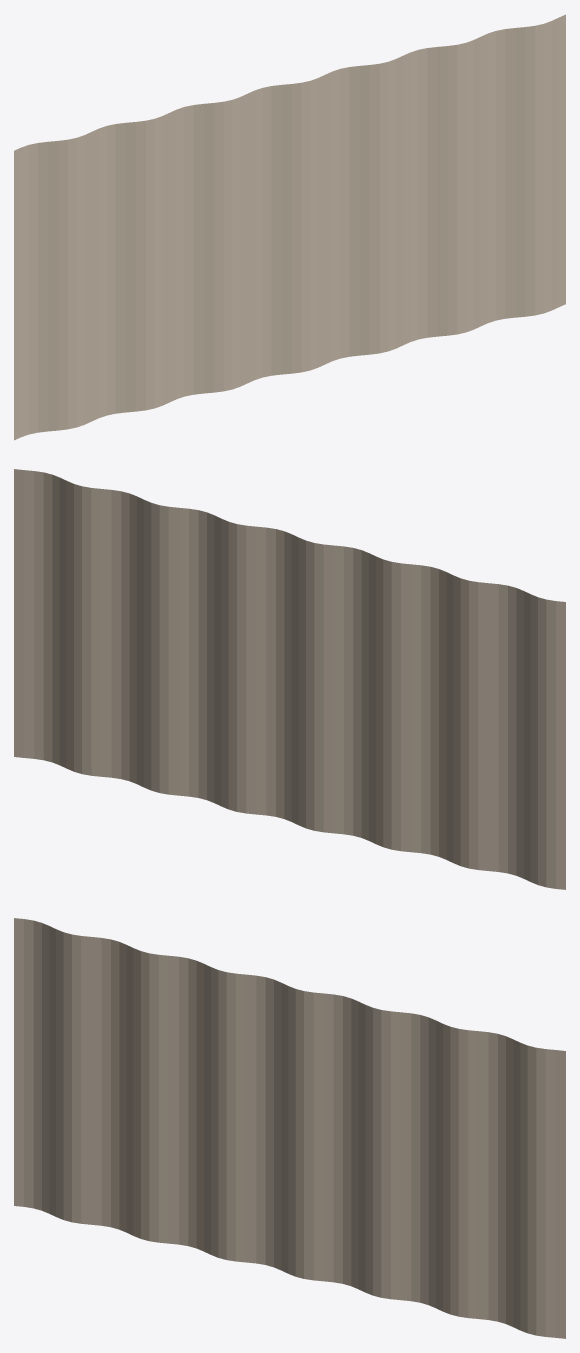
File: muro_LOD0.glb
3 renders of one model, top to bottom at view 1: azimuth 30°, elevation 25°; view 2: azimuth 150°, elevation 25°; view 3: azimuth 330°, elevation 25°, orthographic.
Visible parts, largest first — view 1: muro_LOD0; view 2: muro_LOD0; view 3: muro_LOD0.
Boxes of the visible parts, x1=… form: muro_LOD0: x1=14, y1=14, x2=565, y2=440; muro_LOD0: x1=14, y1=469, x2=565, y2=889; muro_LOD0: x1=14, y1=918, x2=565, y2=1338.
Bounding box in the file's own units: 4 × 2 × 0.0594.
